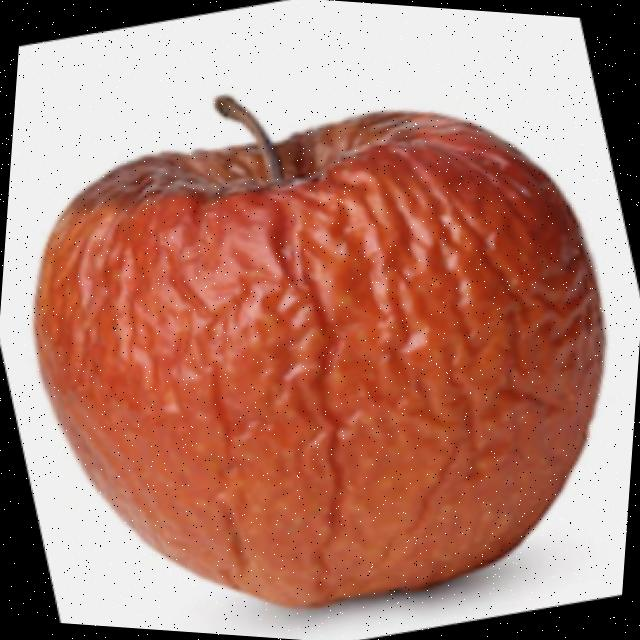overripe: (6, 77, 629, 632)
